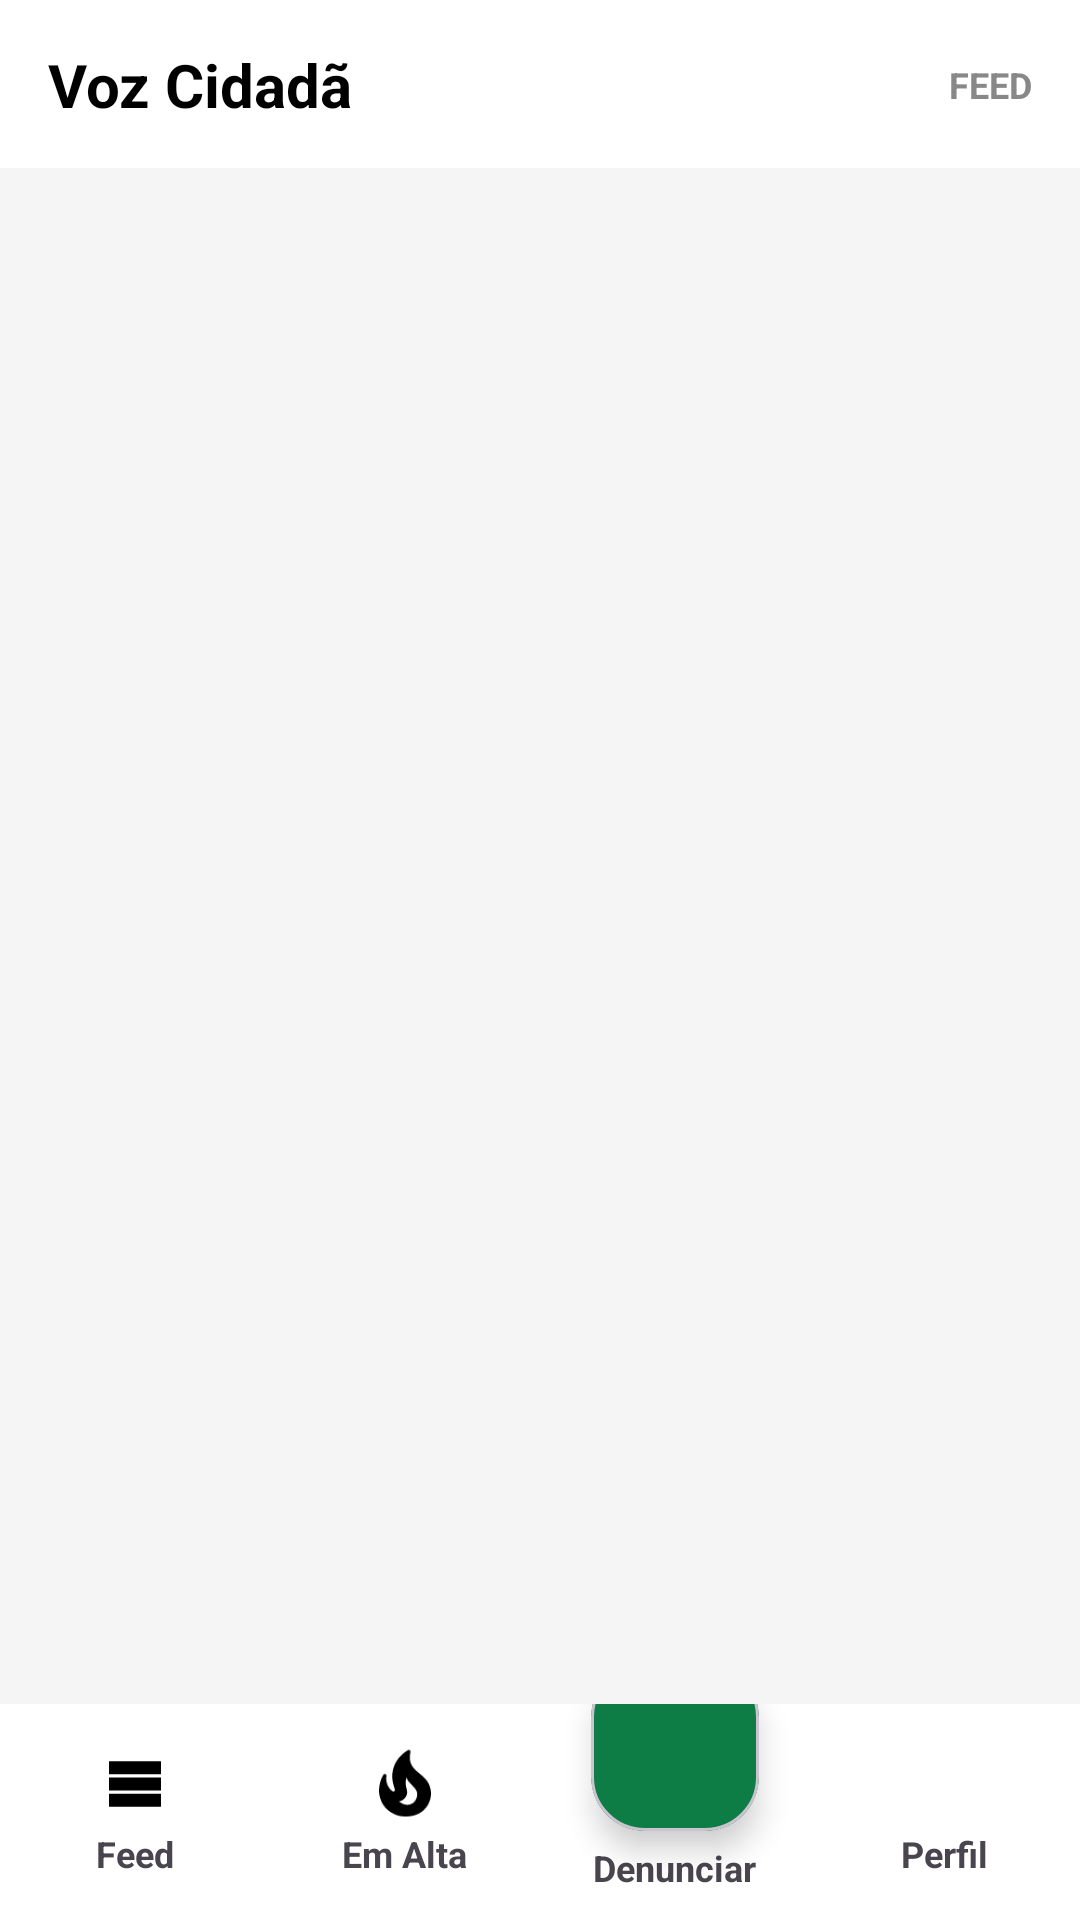

Icons on this 1080x1920 Android screen, each with its box as (x1, y1, x2, y2):
fire: (379, 1749, 431, 1817)
